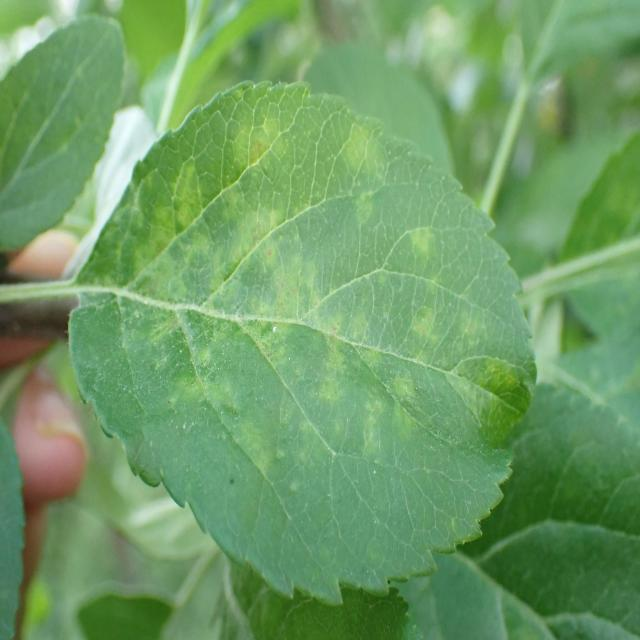scab: (76, 107, 508, 496)
